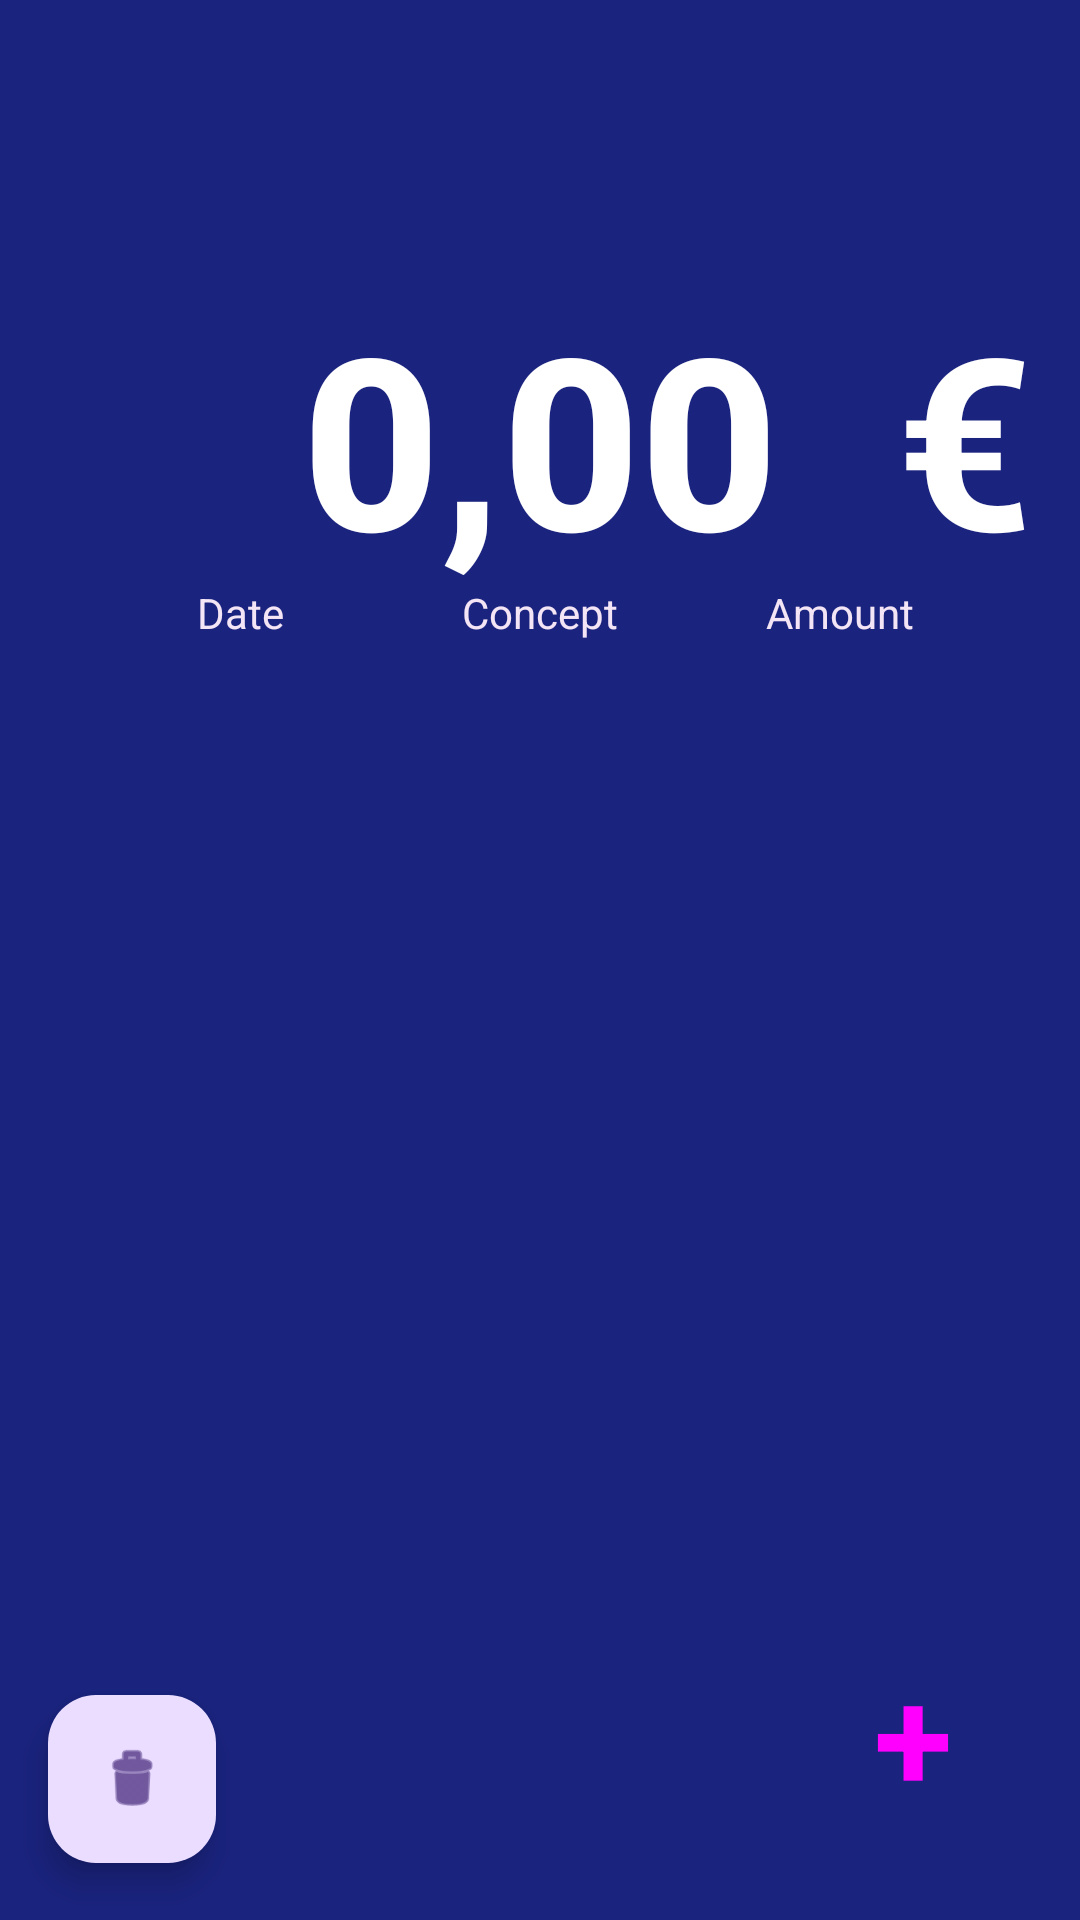

Locate icon controls on the screen. Image size 1080w x 1920h, boxes as [left=x1, top=y1, right=x2, bottom=y2].
Delete: [left=48, top=1695, right=216, bottom=1863]
